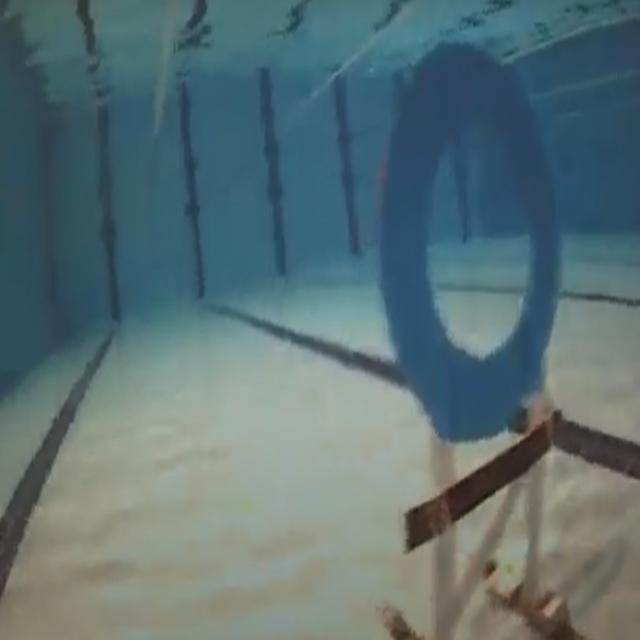Circle: (374, 32, 566, 444)
